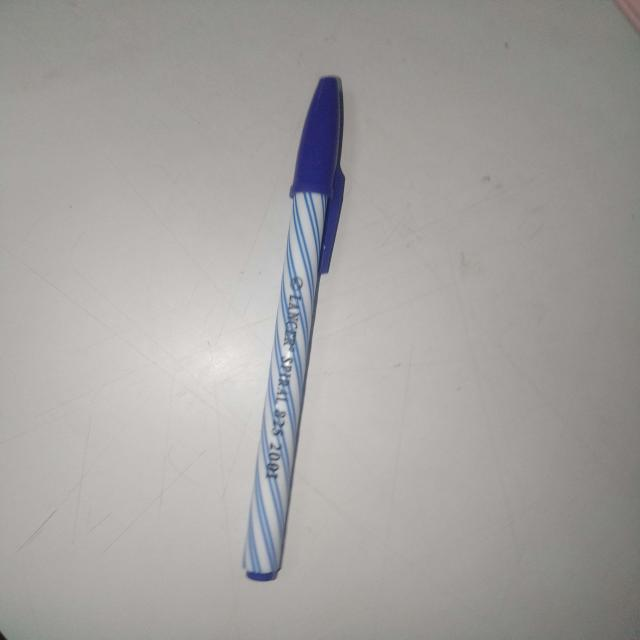pen_pencil: (148, 57, 468, 605)
